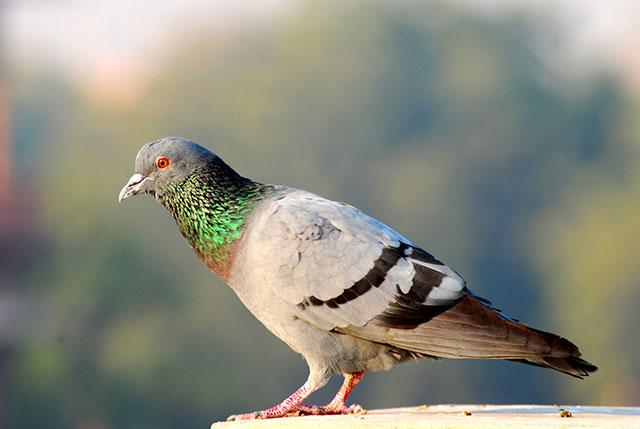Flying Rat: (110, 132, 600, 420)
